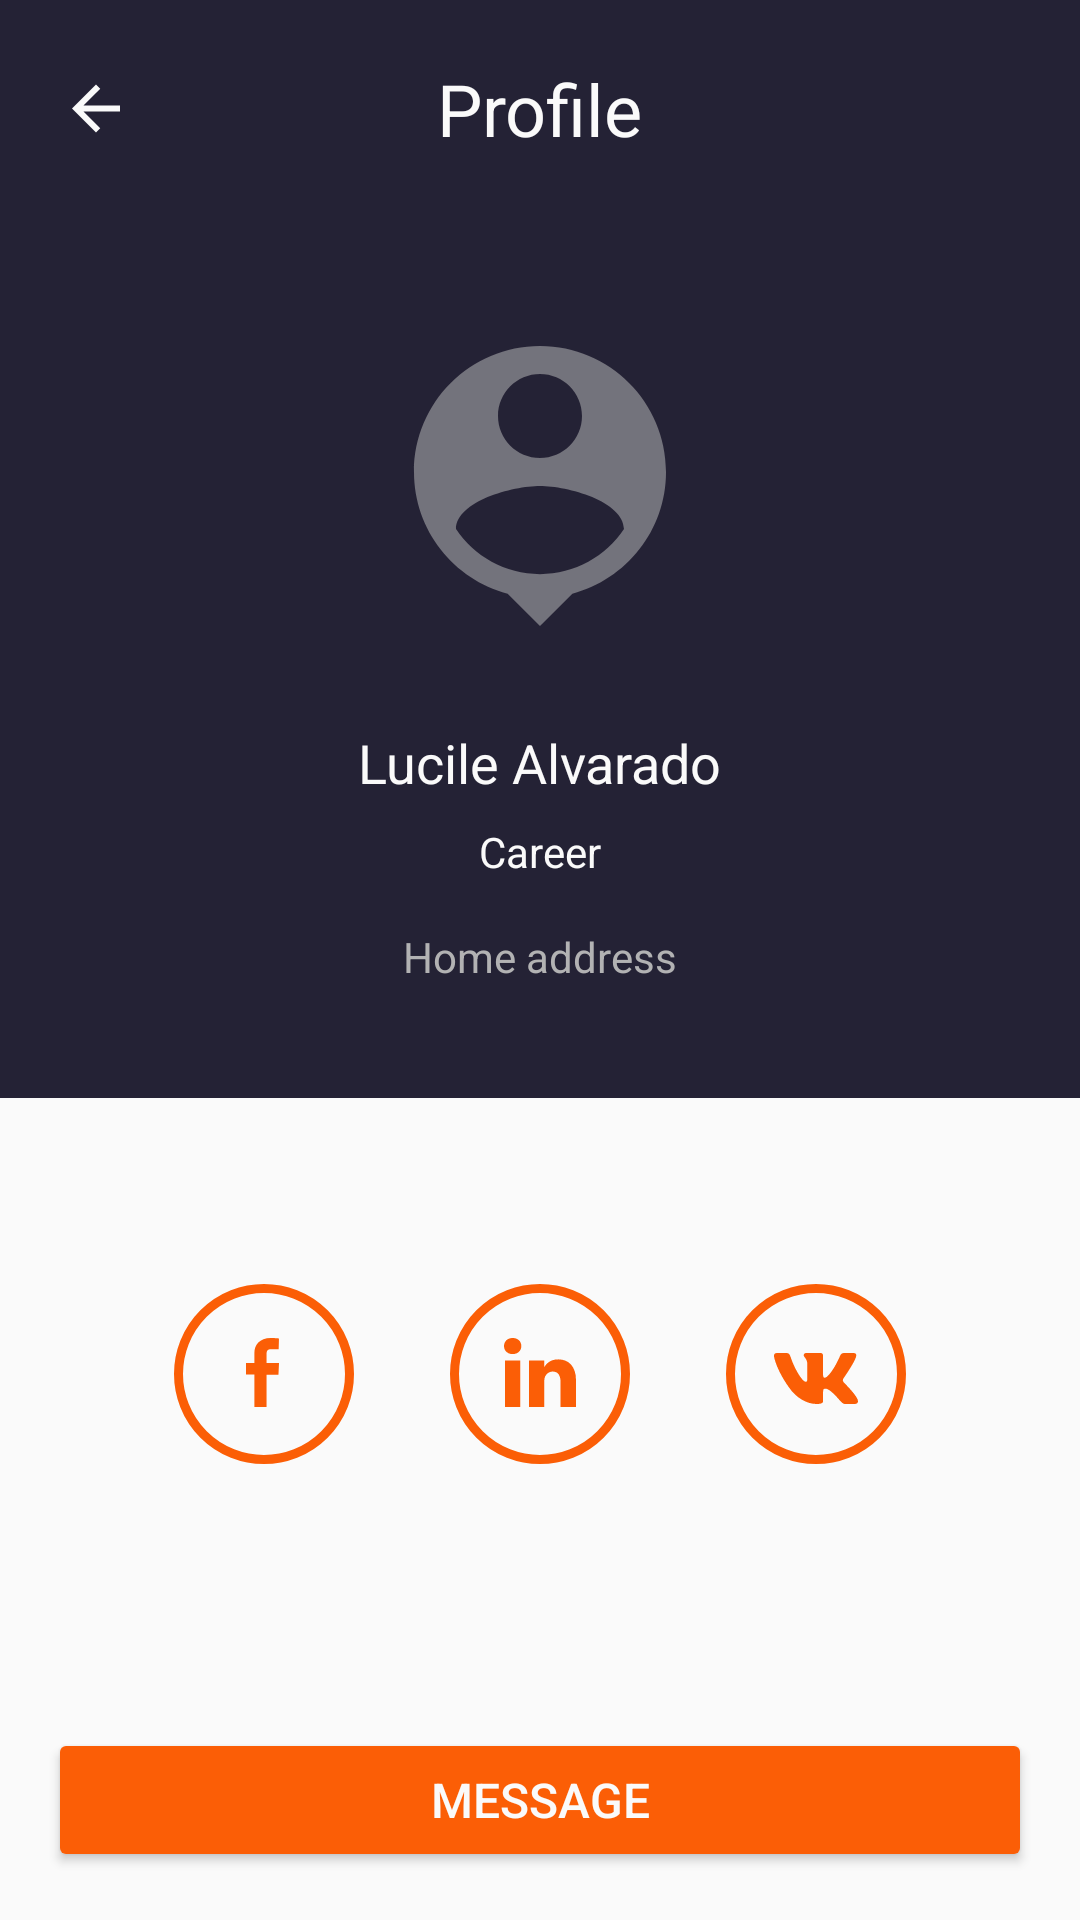

Named icons in this screenshot (1080 x 1920) and their bounding boxes, (x1, y1, x2, y2):
arrow left: (72, 84, 120, 133)
personal photo: (414, 346, 666, 626)
